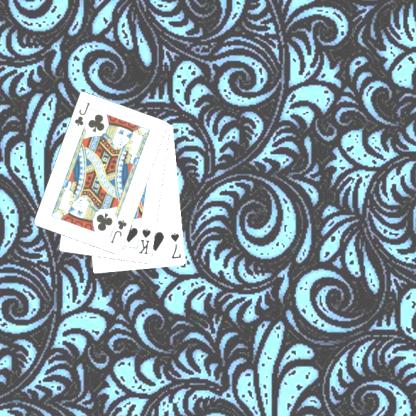7S: (168, 230, 183, 260)
JC: (108, 217, 128, 245), (72, 100, 92, 127)
KS: (136, 226, 152, 256)
